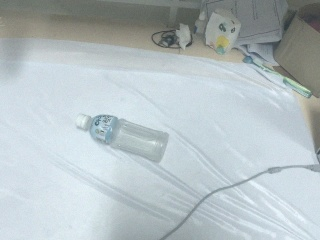bottle: (73, 113, 170, 161)
box: (272, 1, 320, 98)
